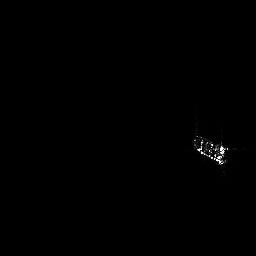ship: (191, 132, 236, 168)
